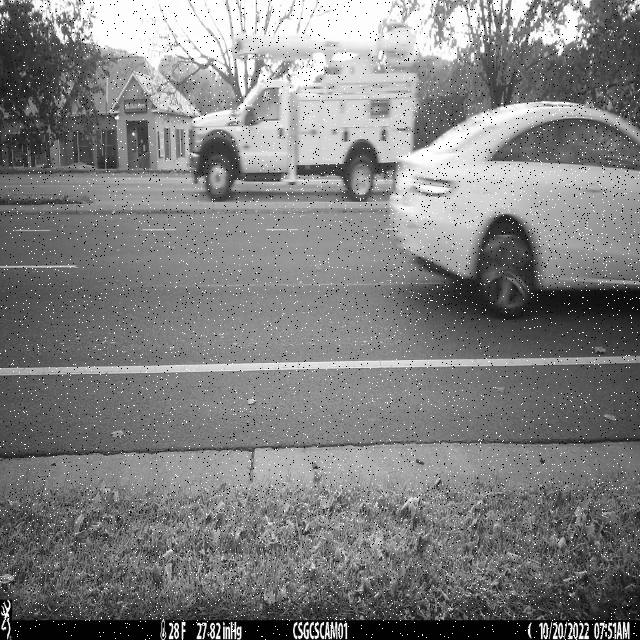Pickup- Utility: (189, 28, 418, 202)
Sedan: (386, 101, 640, 320)
